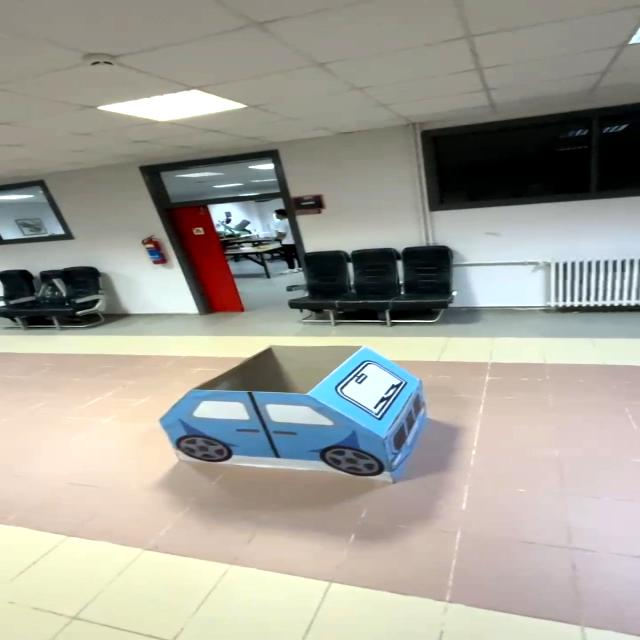blue_car: (101, 321, 460, 514)
